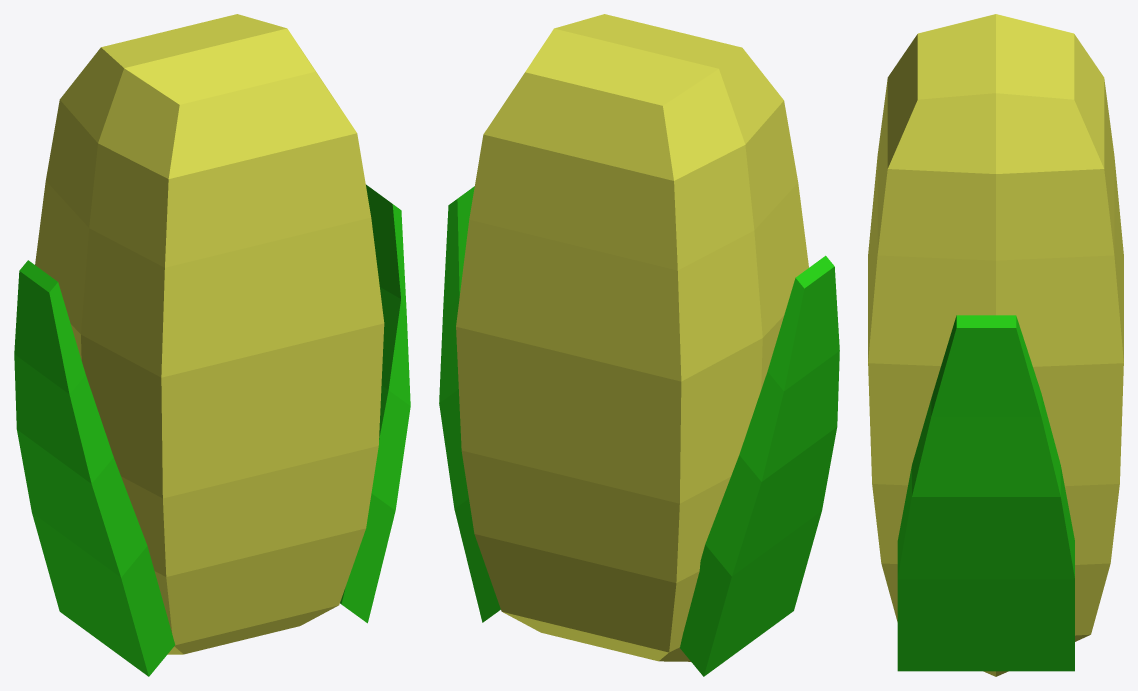
File: corn.fbx
3 renders of one model, left to right at view 1: azimuth 30°, elevation 25°; view 2: azimuth 150°, elevation 25°; view 3: azimuth 270°, elevation 25°, orthographic.
Parts seen in each view (by area): view 1: Corn; view 2: Corn; view 3: Corn.
Part boxes in pixels (<box>): Corn: <box>14,14,410,676</box>; Corn: <box>439,14,839,676</box>; Corn: <box>868,14,1123,676</box>.
Size of the model in its own units: 153 by 244 by 96.6.
